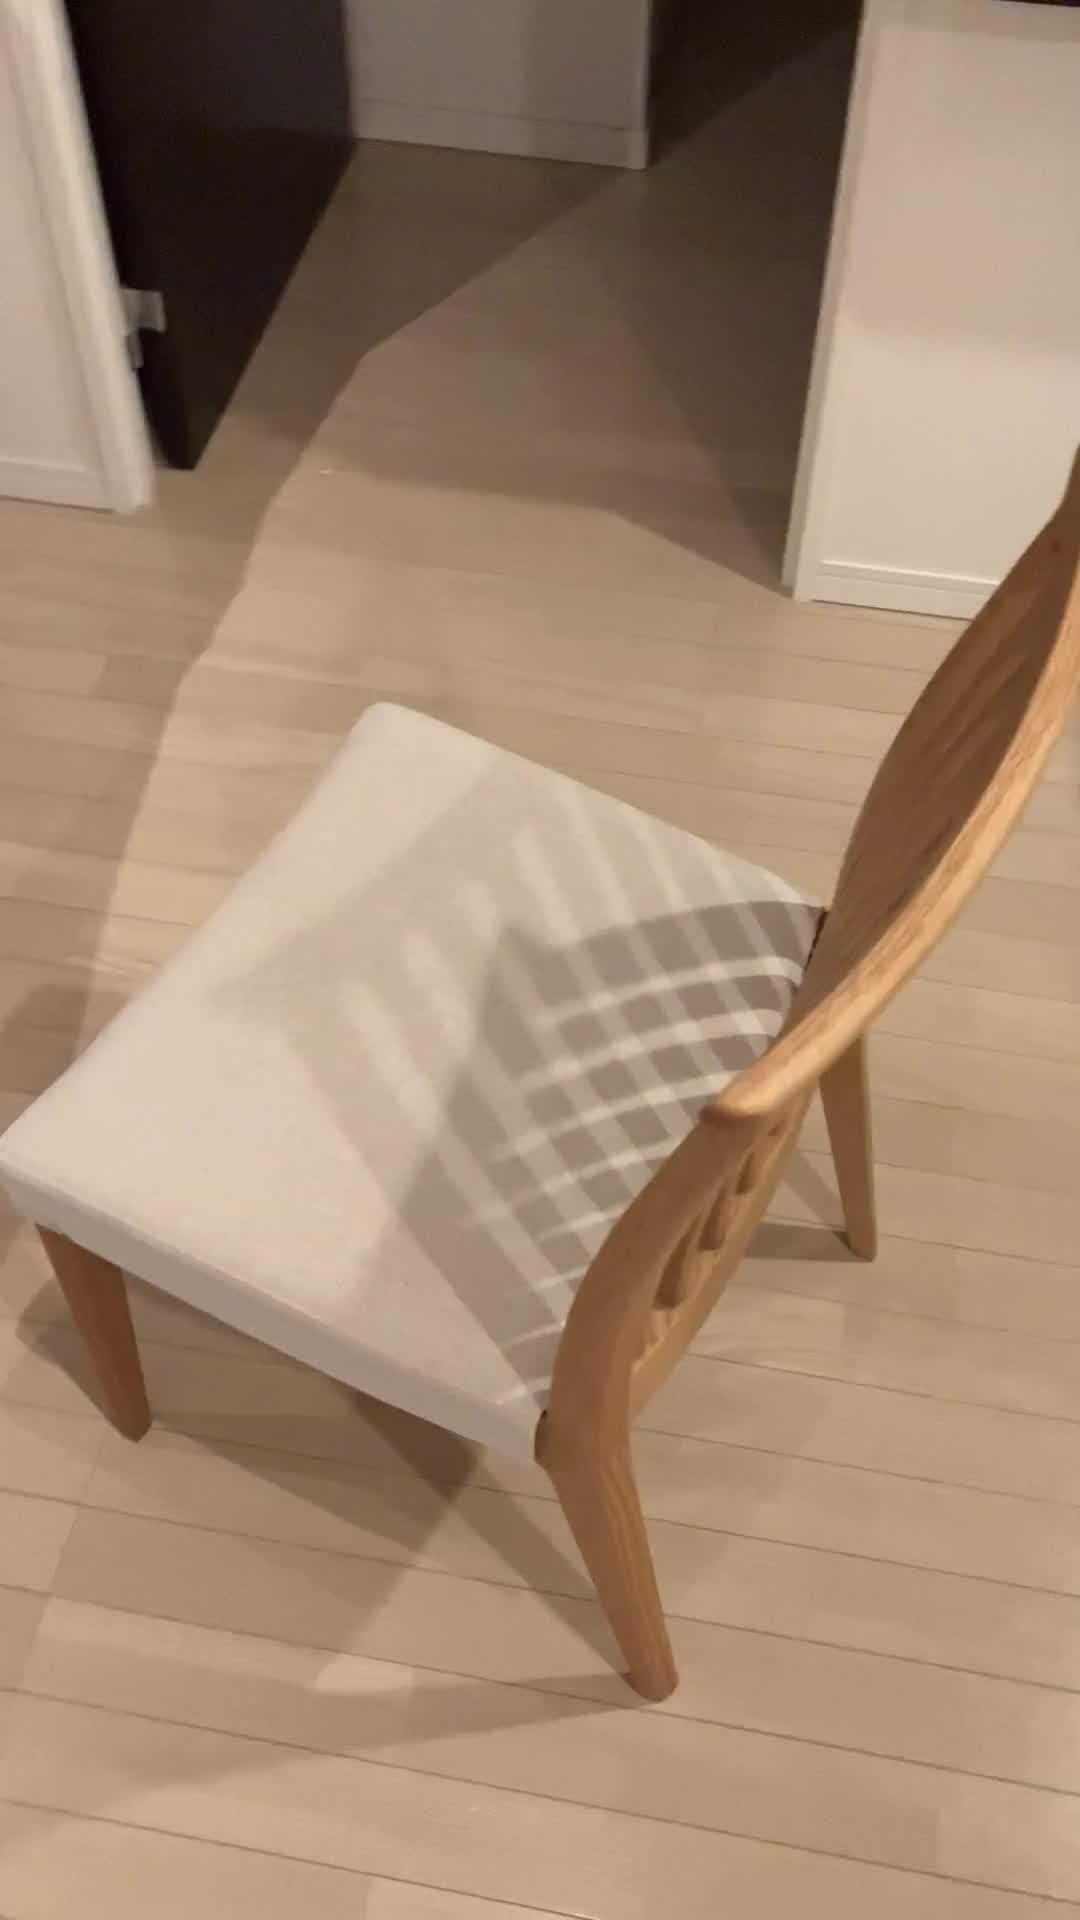takumikan-chair: (0, 442, 1080, 1706)
